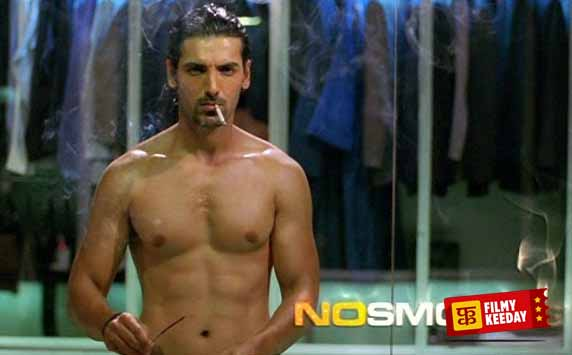cigarette: (205, 95, 239, 131)
